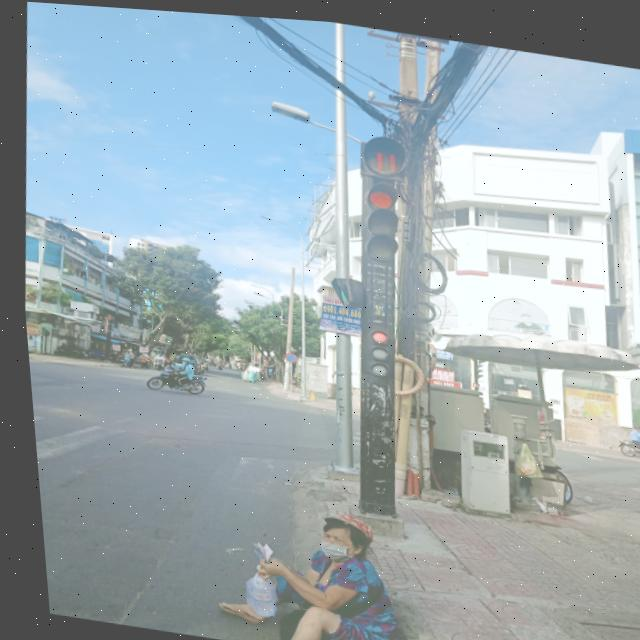Red: (349, 168, 405, 265), (350, 314, 398, 379)
